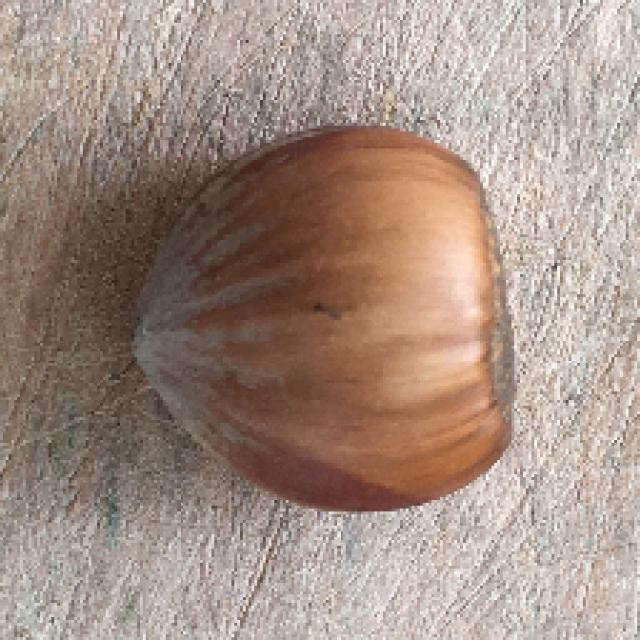qualityHazelnut: (141, 130, 526, 517)
